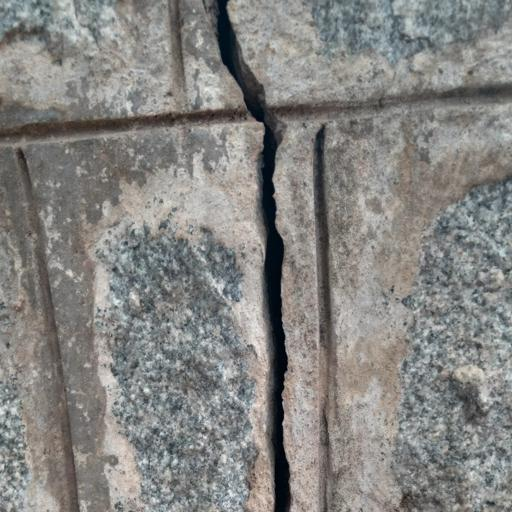major_crack: (199, 0, 313, 512)
